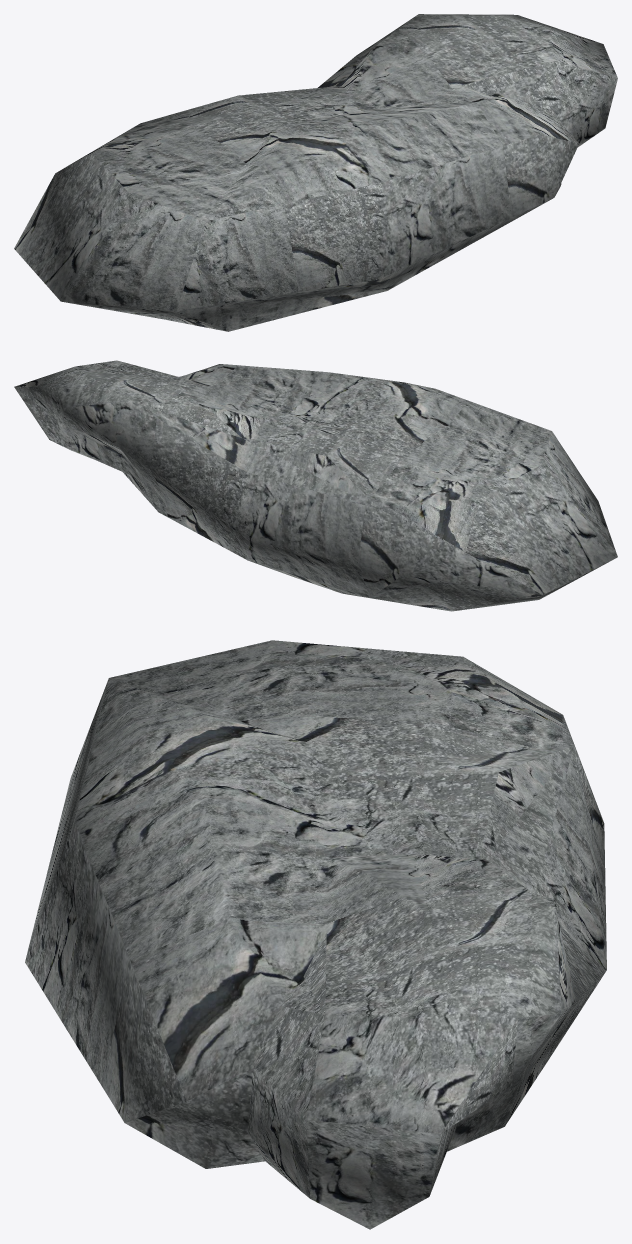
The model's file is bigstone01.glb.
3 renders of one model, top to bottom at view 1: azimuth 30°, elevation 25°; view 2: azimuth 150°, elevation 25°; view 3: azimuth 270°, elevation 25°, orthographic. The views are drawn at different scales.
Parts seen in each view (by area): view 1: node-BigStoneOne256; view 2: node-BigStoneOne256; view 3: node-BigStoneOne256.
Part boxes in pixels (x1=…): node-BigStoneOne256: x1=14, y1=14, x2=617, y2=331; node-BigStoneOne256: x1=14, y1=360, x2=617, y2=611; node-BigStoneOne256: x1=25, y1=640, x2=606, y2=1229.
Size of the model in its own units: 5.2 by 1.49 by 2.36.
Materials: 1 (1 with a texture image).
